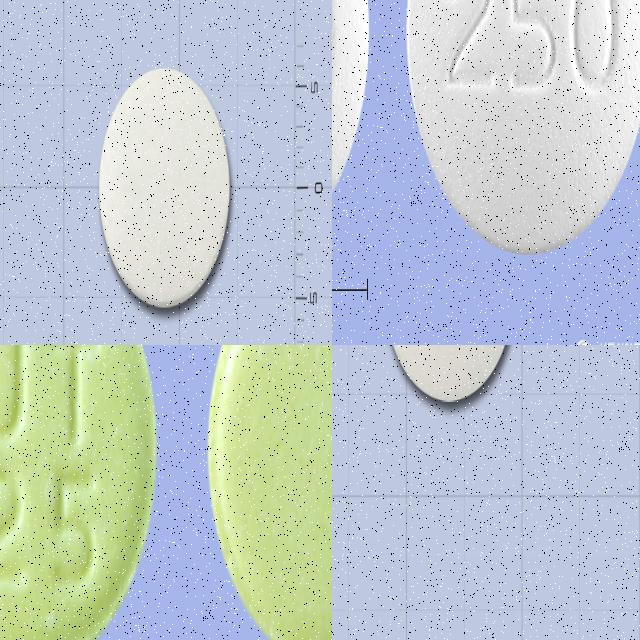Azaprine -25mg: (0, 345, 161, 640), (206, 345, 332, 640)
Cf: (376, 345, 521, 406)
Ciploxcin: (97, 62, 238, 316)
Ciquroby: (402, 0, 640, 259)
